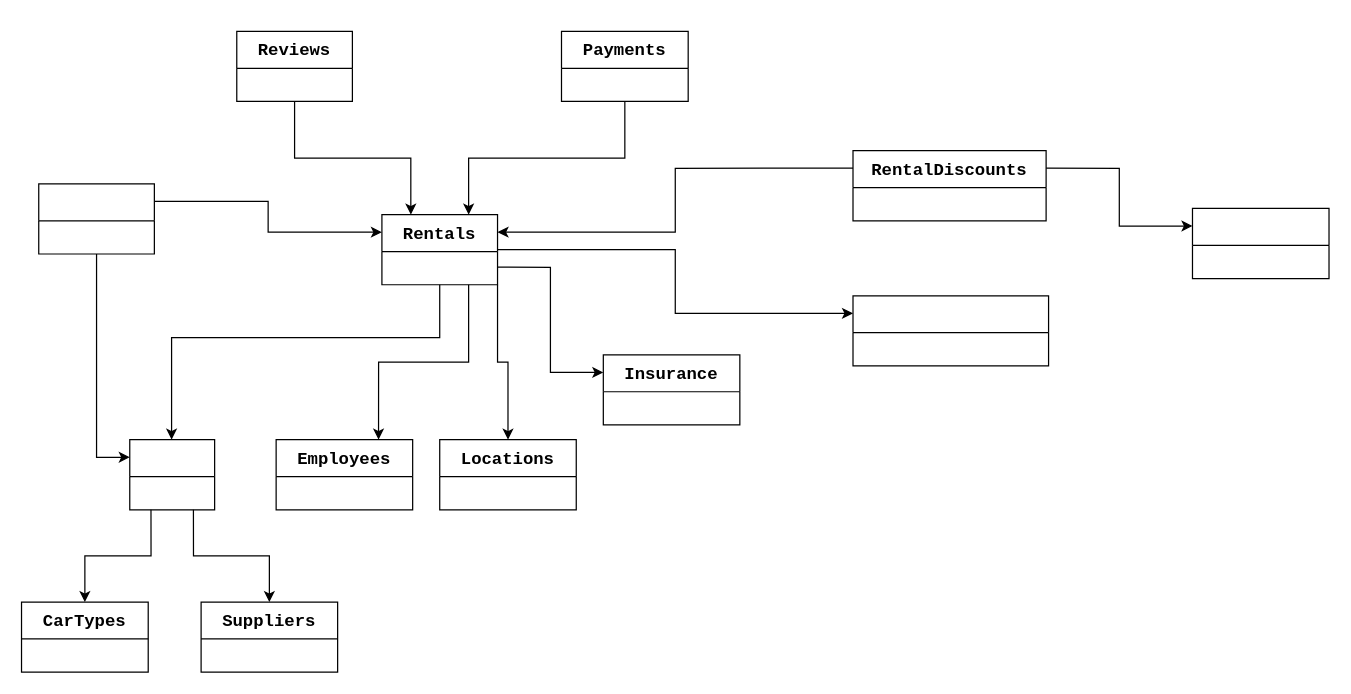
Some shapes in this 1351 by 694 pixel diagram are drawn without their labels. Here are the shapes that lost their labels. From the top down, the centre of each, then its label:
At (x=96, y=218): "Damages".
At (x=1260, y=243): "Discounts".
At (x=950, y=330): "Customers".
At (x=172, y=474): "Cars".
